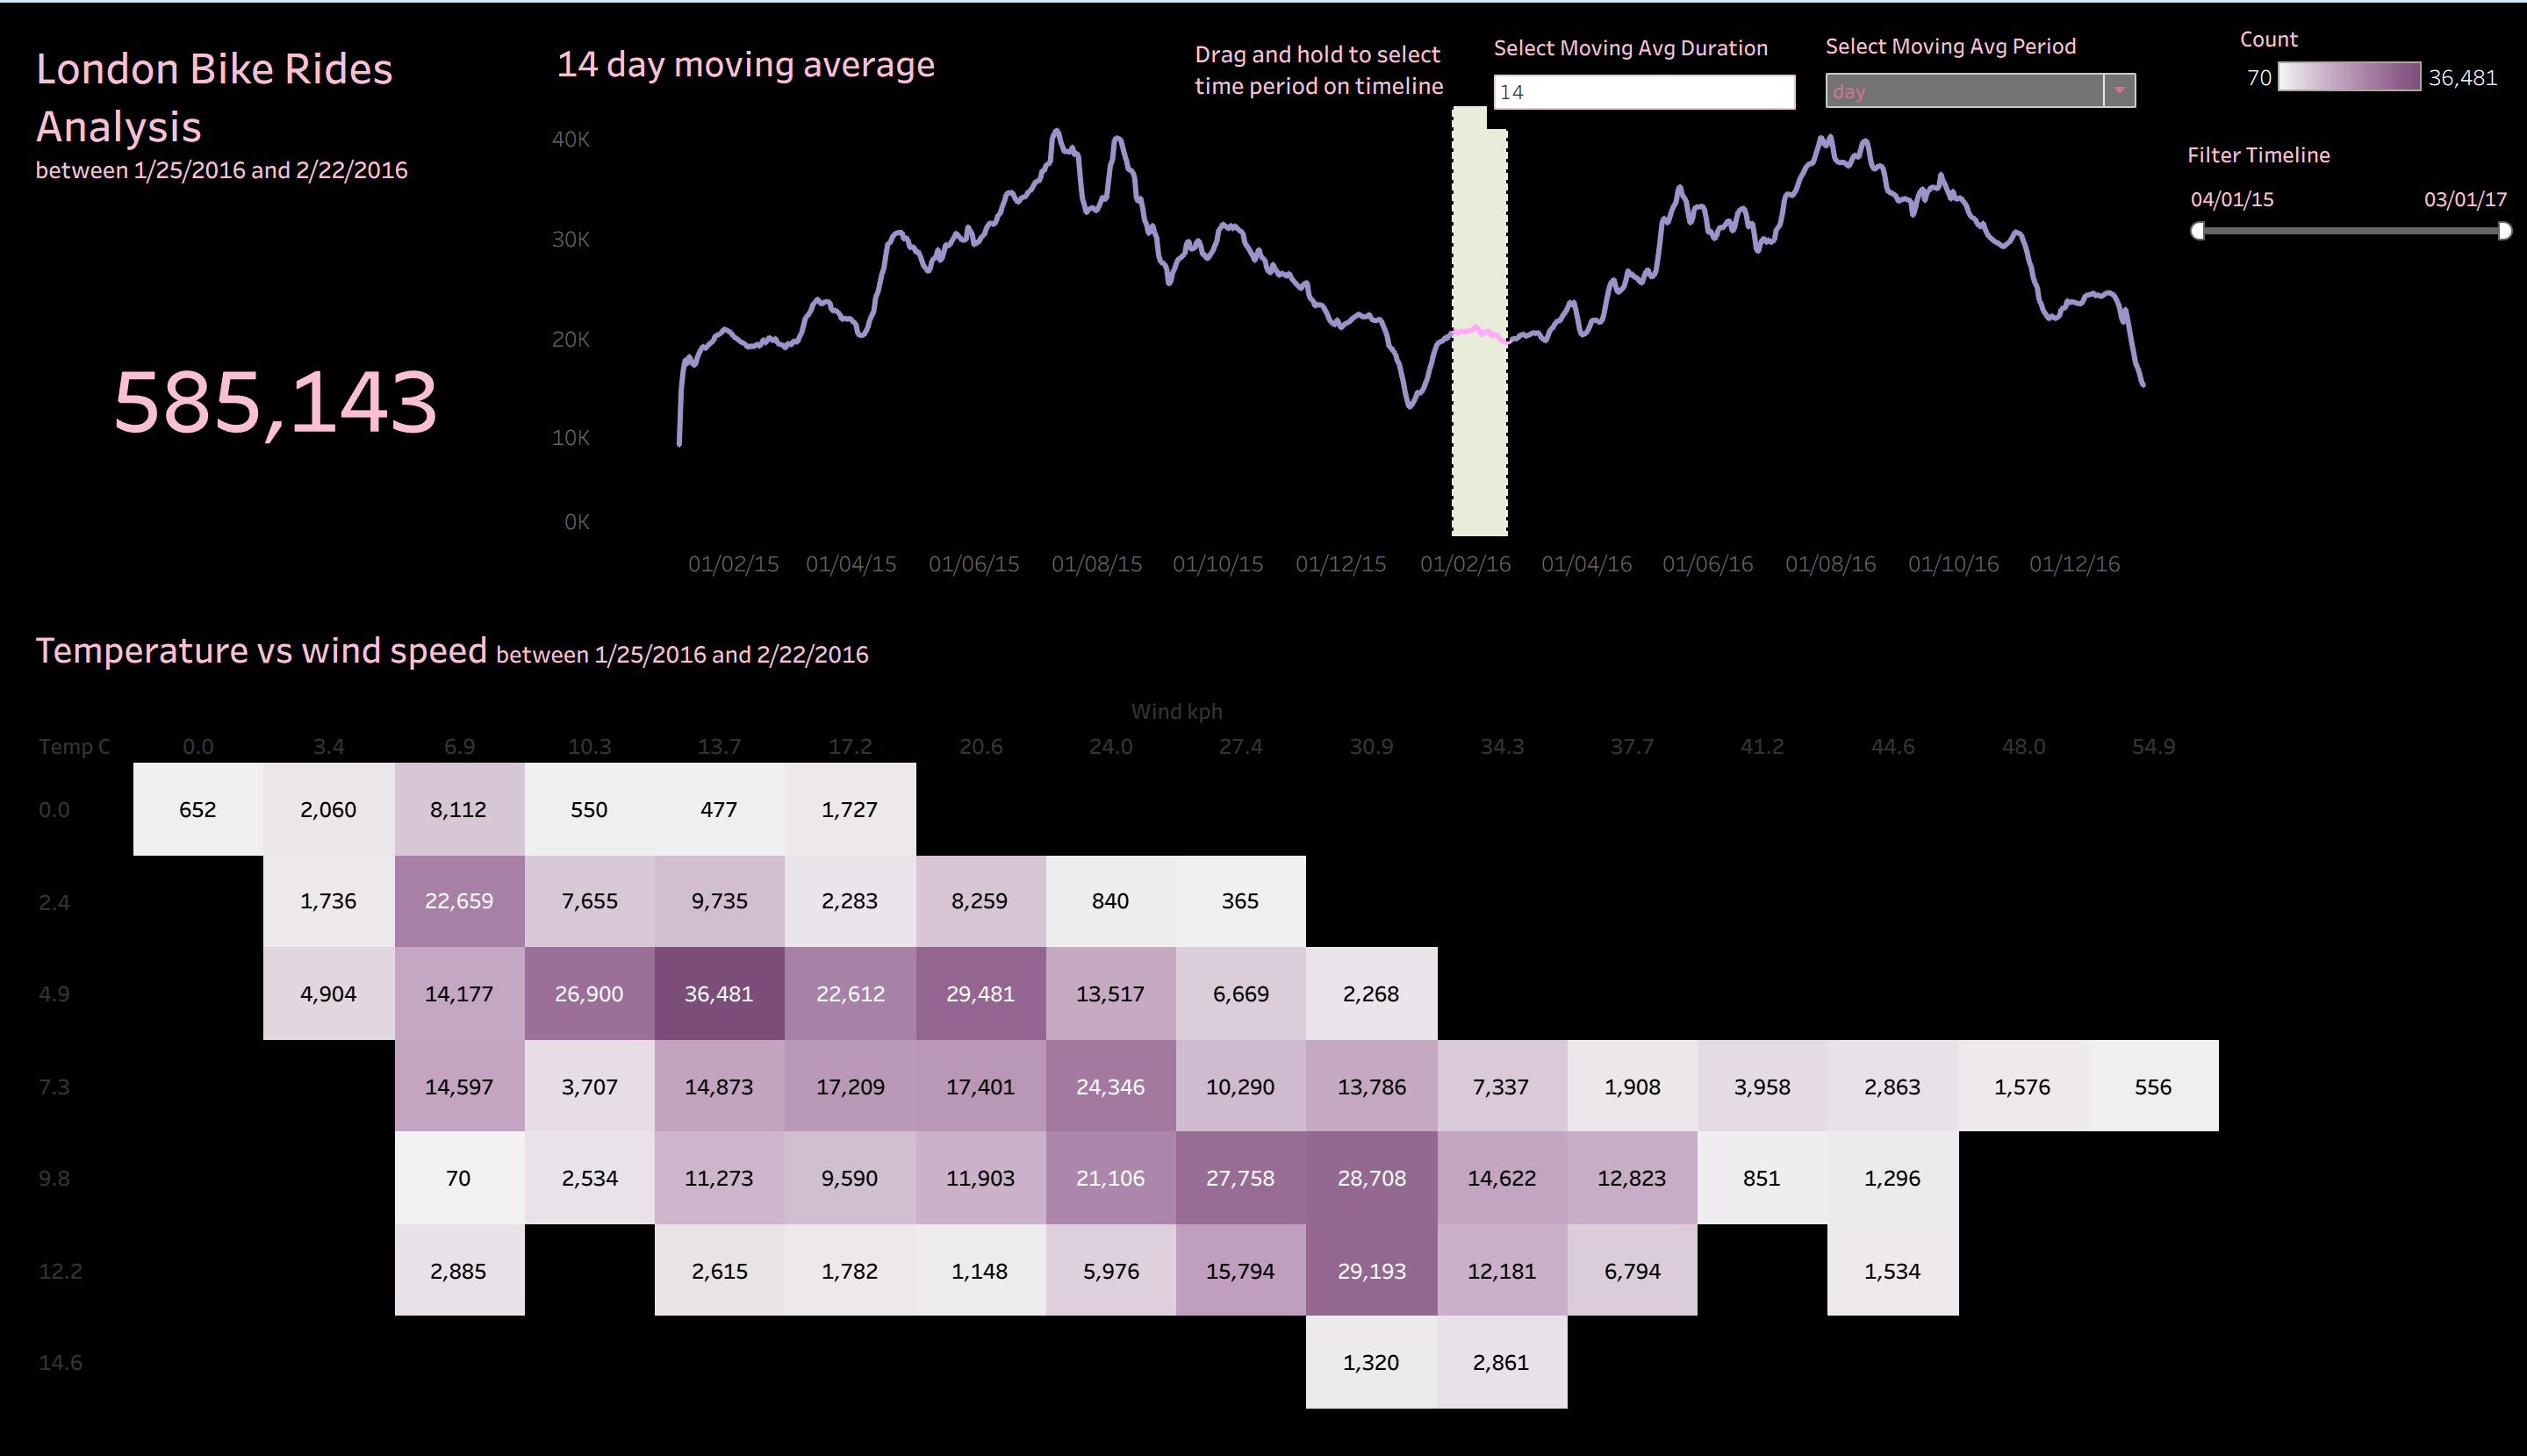

The page's visual inventory and layout, read from the dashboard file:
{"tool":"tableau","page":{"name":"Dashboard","canvas":[1000,1000],"units":"permille","ordinal":0},"visuals":[{"type":"parameter","param":"[Parameters].[Parameter 3]","box":[716.7,9.1,134,80.7]},{"type":"worksheet","title":"TotalRides","mark":"Automatic","box":[5.7,10.4,205.7,402.2]},{"type":"worksheet","title":"MovingAverage","mark":"Automatic","rows":["Calculation1"],"cols":["Calculation_2560859404833579008"],"box":[211.4,10.4,668.4,402.2]},{"type":"parameter","param":"[Parameters].[Parameter 2]","box":[585.6,10.4,130.3,80.7]},{"type":"legend","title":"Heatmap","param":"[federated.1btkpv91oruoe61fz4cnm1lloes8].[sum:count:qk]","box":[879.8,10.4,114.5,979.2]},{"type":"text","box":[467.8,15.6,116.4,59.9]},{"type":"filter","title":"MovingAverage","param":"[federated.1btkpv91oruoe61fz4cnm1lloes8].[none:Calculation_2560859404833579008:q","box":[859.4,84.6,141.3,104.2]},{"type":"worksheet","title":"Heatmap","mark":"Square","rows":["temp real C (bin)"],"cols":["Wind Speed Kph (bin)"],"box":[5.7,412.7,874.1,576.9]}]}

Visuals, with their boxes on the dashboard's canvas, which has no fixed pixel size, in thousandths of its width and height (x1, y1, x2, y2). These are canvas units, not pixel positions in the 2527x1456 screenshot, which may show the page scaled, cropped or inside an application window:
parameter: 717, 9, 851, 90
"TotalRides" worksheet: 6, 10, 211, 413
"MovingAverage" worksheet: 211, 10, 880, 413
parameter: 586, 10, 716, 91
"Heatmap" legend: 880, 10, 994, 990
text: 468, 16, 584, 76
"MovingAverage" filter: 859, 85, 1001, 189
"Heatmap" worksheet (Square marks): 6, 413, 880, 990
